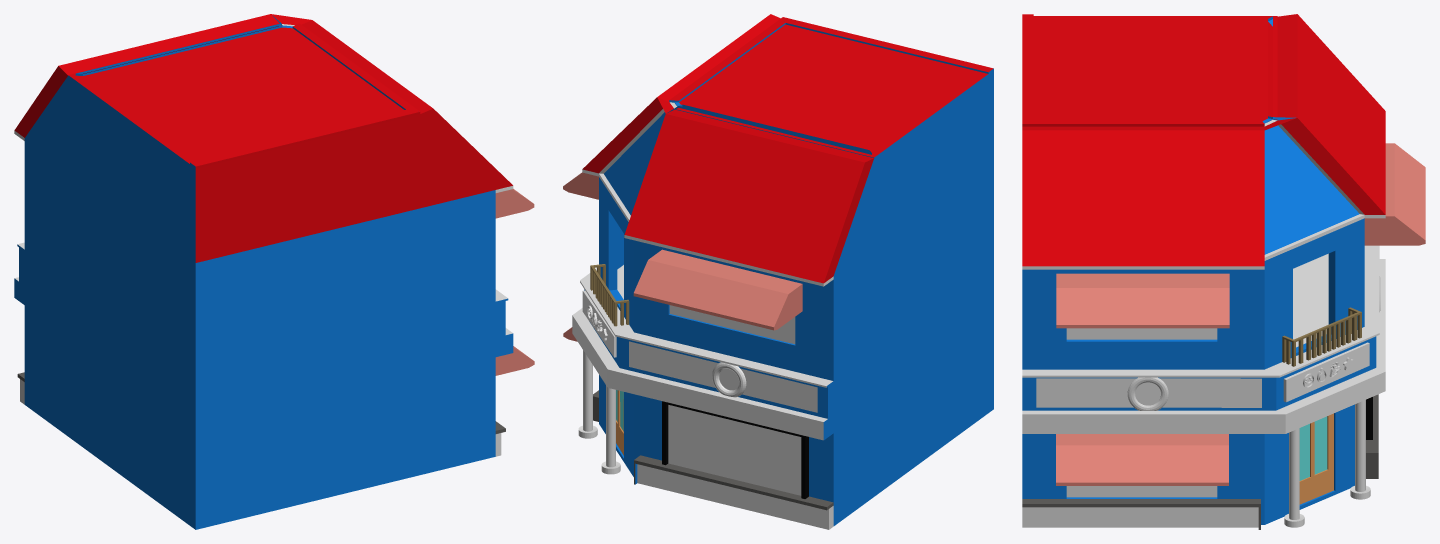
The model's file is FESTIVAL BUILDING 1.fbx.
3 renders of one model, left to right at view 1: azimuth 30°, elevation 25°; view 2: azimuth 150°, elevation 25°; view 3: azimuth 270°, elevation 25°, orthographic. The views are drawn at different scales.
Visible parts, largest first — view 1: Cube, Cube.003, Cube.002; view 2: Cube, Cube.010, Cube.004, Cube.009, Cylinder.001, Cylinder, Cube.007, Cube.003, Torus.001; view 3: Cube, Cube.003, Cube.002, Cube.004, Cube.009, Cube.001, Cube.007, Cylinder.001, Cylinder, Torus.
Boxes of the visible parts, x1,y1,x2,y2 form: Cube: (14,14,513,529); Cube.003: (495,189,534,218); Cube.002: (495,346,534,375); Cube: (572,14,993,529); Cube.010: (662,401,808,498); Cube.004: (633,249,802,330); Cube.009: (669,305,795,344); Cylinder.001: (601,385,620,474); Cylinder: (578,350,597,438); Cube.007: (582,290,616,357); Cube.003: (563,172,598,199); Torus.001: (712,362,746,397); Cube: (1022,14,1385,529); Cube.003: (1056,273,1229,328); Cube.002: (1056,434,1228,485); Cube.004: (1364,143,1425,245); Cube.009: (1066,328,1217,497); Cube.001: (1299,413,1333,504); Cube.007: (1283,342,1369,402); Cylinder.001: (1350,400,1370,499); Cylinder: (1284,428,1304,527); Torus: (1127,377,1168,410).
Size of the model in its own units: 2456 by 2400 by 2408.
